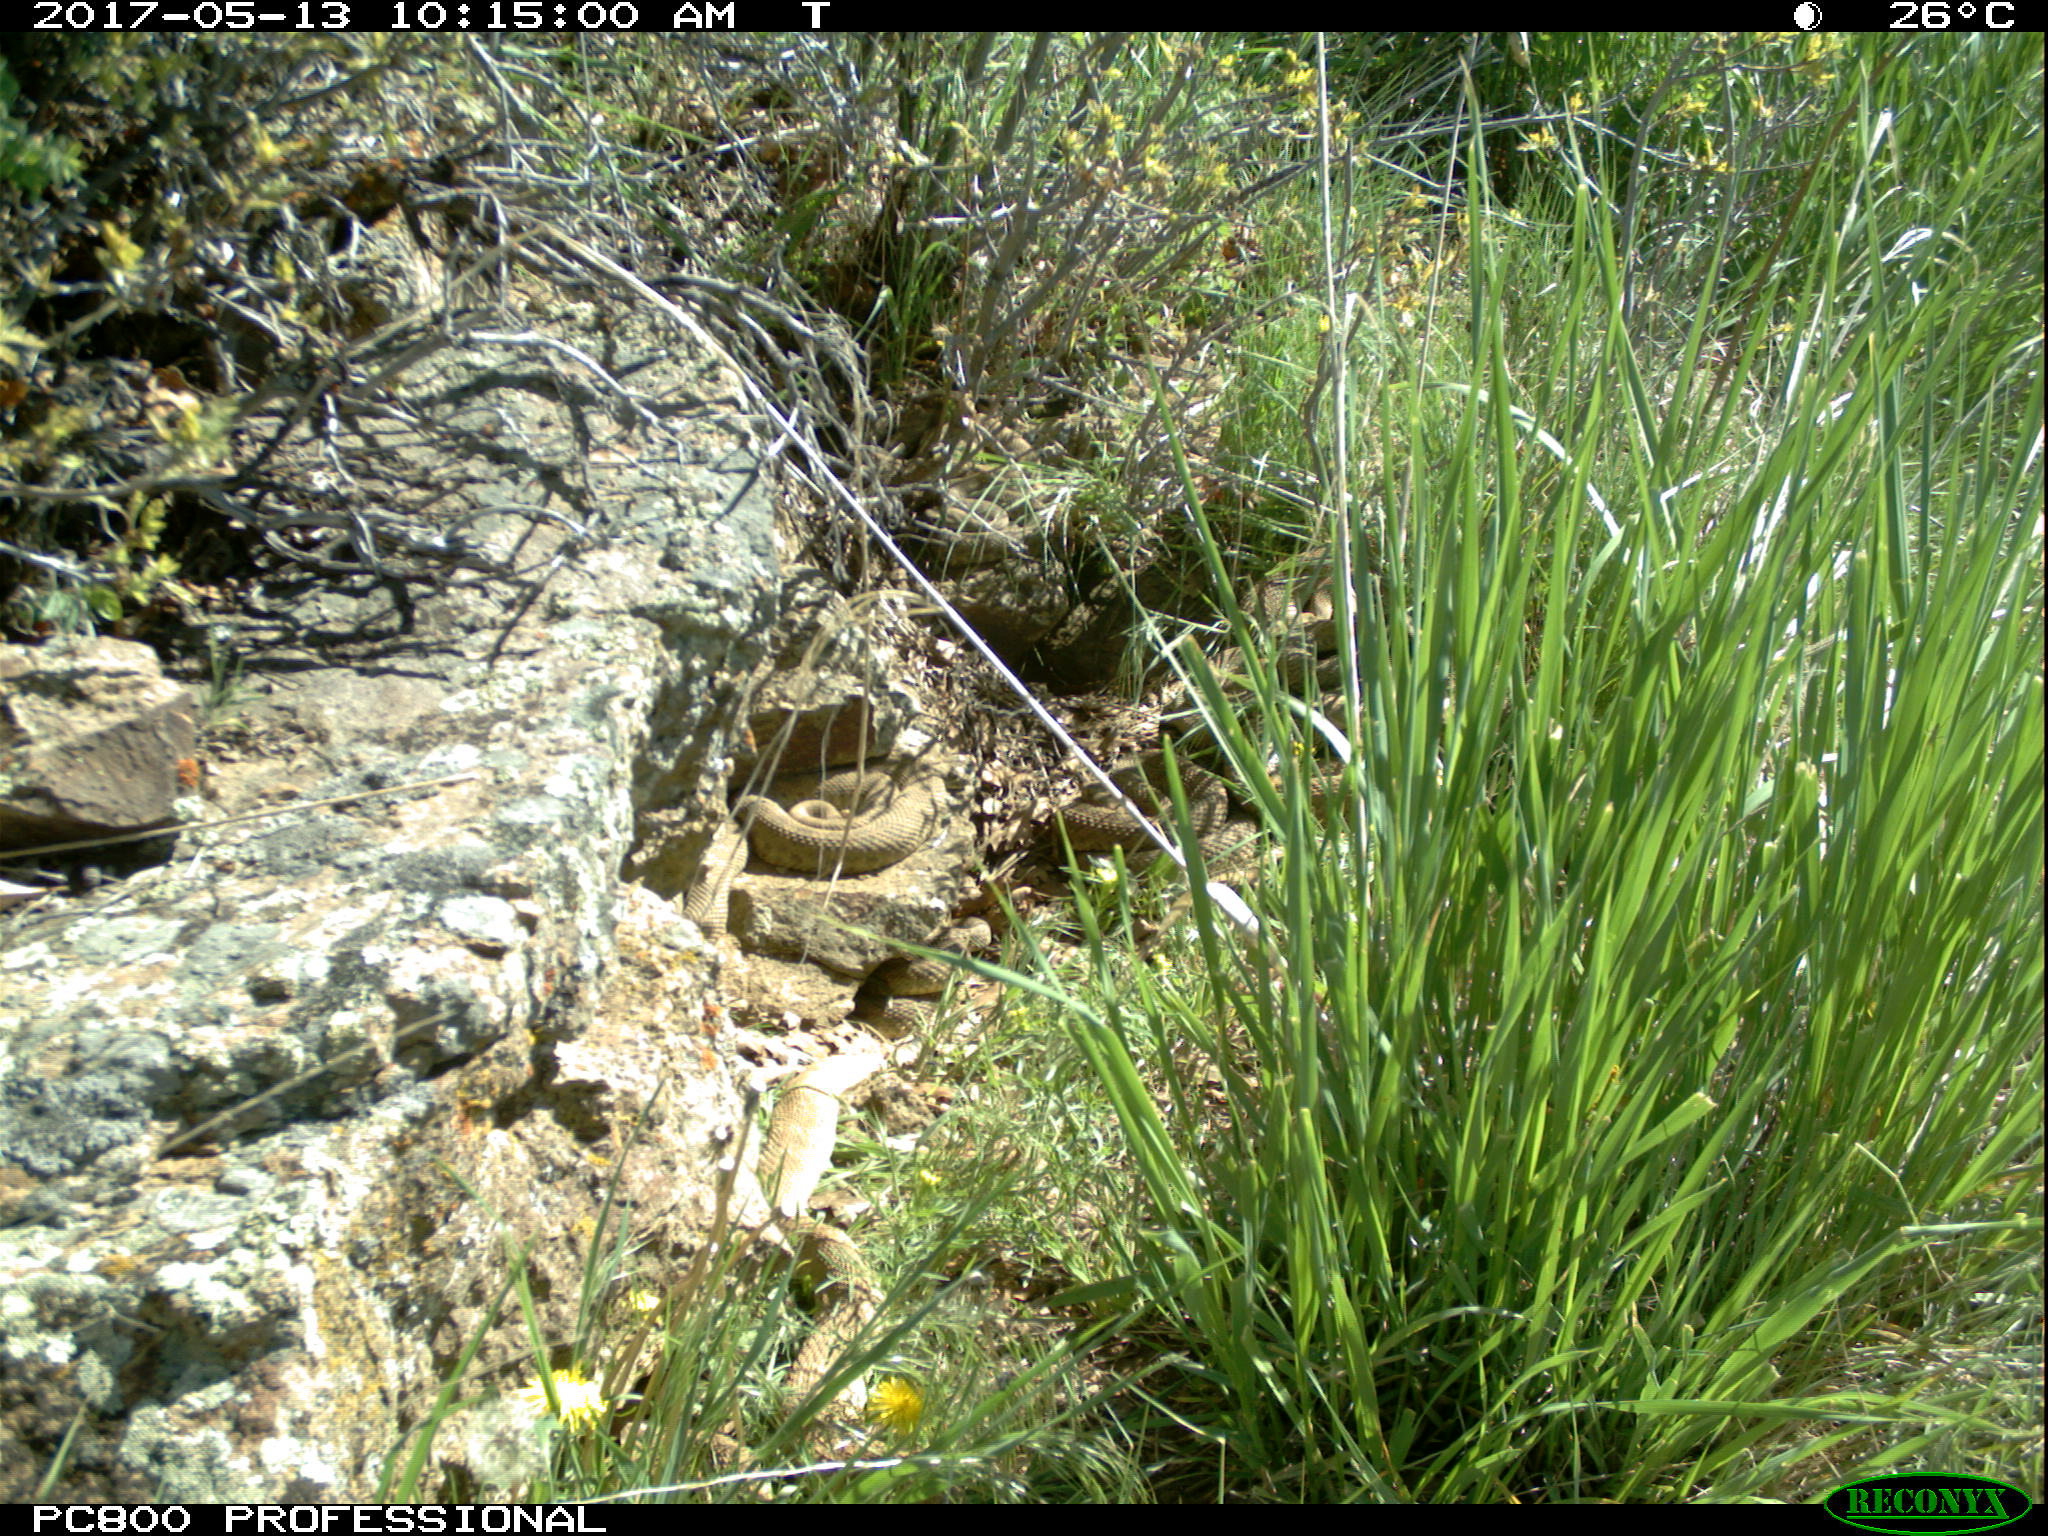snake: (761, 1041, 871, 1450), (722, 765, 961, 870), (1056, 753, 1243, 852), (1245, 558, 1359, 650), (689, 813, 751, 942), (924, 500, 1026, 573)
